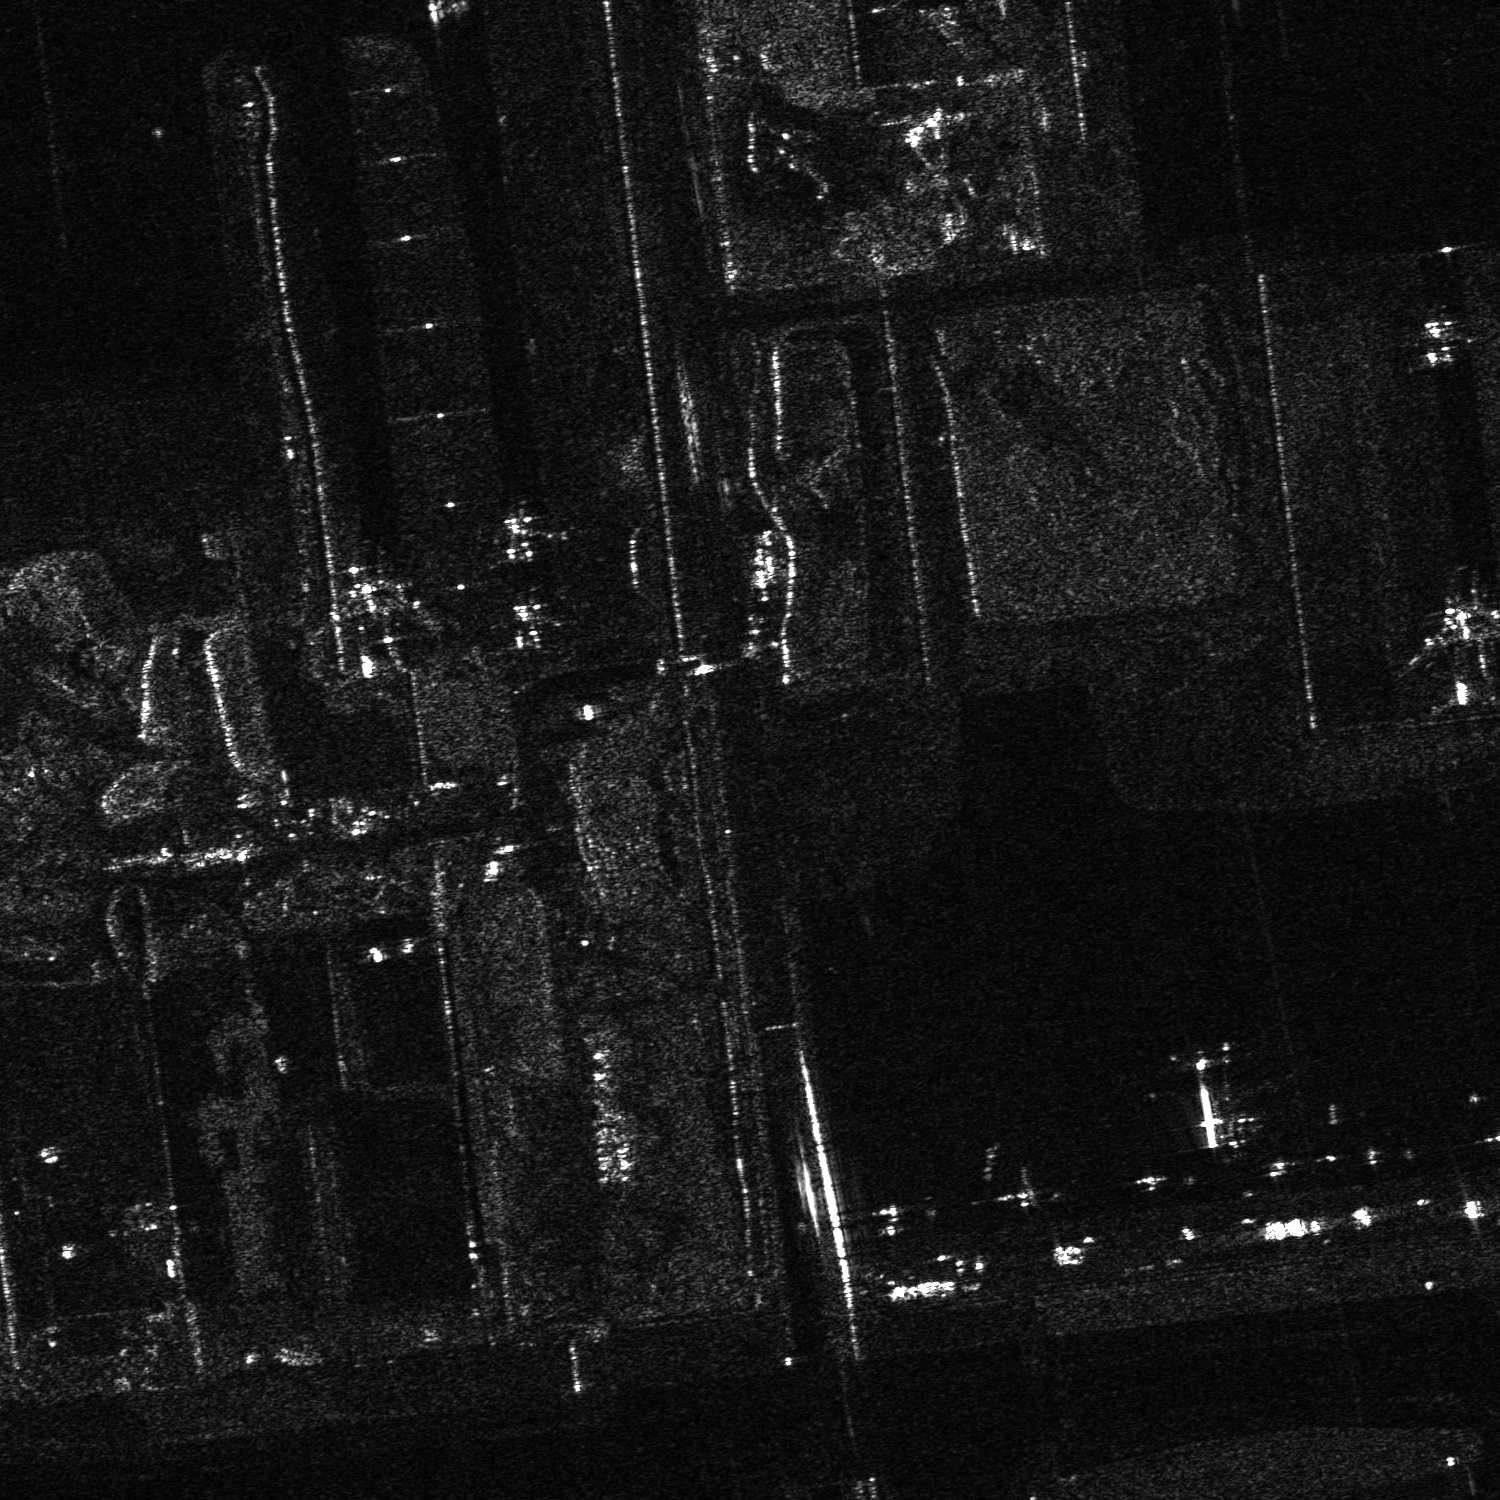A220: (1398, 309, 1477, 374)
Boeing787: (1135, 1045, 1288, 1158)
other: (1397, 584, 1499, 714)
